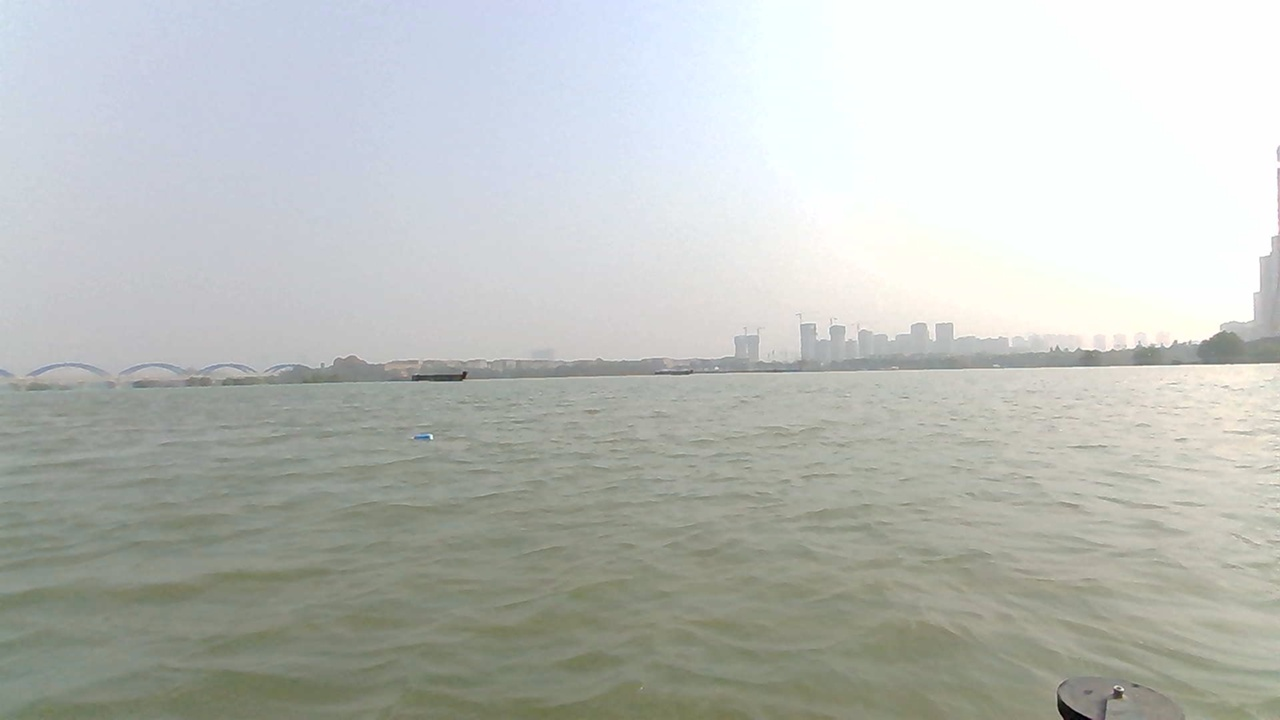bottle: (408, 430, 437, 444)
